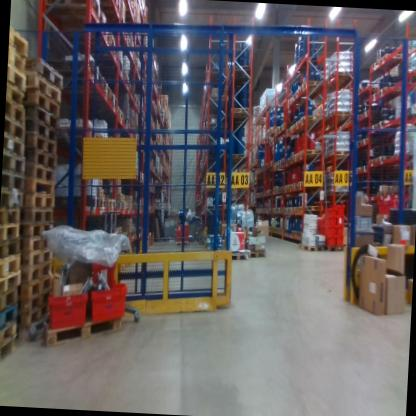pallet: (36, 302, 127, 357), (39, 0, 110, 31), (52, 72, 114, 97), (46, 57, 105, 82), (24, 56, 67, 89), (25, 82, 59, 116), (26, 70, 64, 99), (19, 241, 54, 271), (66, 90, 118, 108), (78, 28, 120, 50), (55, 191, 101, 211), (18, 272, 53, 298), (20, 159, 56, 183), (17, 284, 50, 310), (19, 233, 55, 256), (22, 148, 60, 169), (0, 271, 22, 307), (25, 116, 59, 139), (17, 303, 51, 326), (0, 234, 23, 267), (0, 334, 21, 370), (21, 217, 53, 240), (0, 287, 19, 325), (8, 28, 32, 58), (377, 46, 409, 68), (26, 106, 58, 128), (2, 148, 27, 175), (0, 257, 23, 286), (18, 262, 53, 281), (24, 134, 58, 153), (22, 176, 56, 195), (205, 61, 228, 88), (0, 305, 18, 339), (4, 118, 30, 141), (20, 207, 55, 224), (3, 133, 27, 157), (0, 221, 23, 246), (300, 74, 326, 96), (204, 88, 230, 110), (0, 321, 17, 354), (227, 101, 251, 124), (8, 65, 29, 91), (229, 60, 250, 86), (6, 82, 26, 109), (200, 197, 227, 217), (24, 193, 55, 210), (327, 66, 353, 85), (9, 48, 27, 75), (1, 187, 23, 209), (0, 208, 21, 230), (300, 144, 324, 163), (5, 102, 26, 123), (377, 82, 401, 100), (371, 59, 399, 74), (358, 136, 389, 149), (297, 242, 328, 255), (296, 200, 324, 214), (298, 112, 324, 127), (328, 105, 352, 121), (250, 245, 270, 264), (362, 105, 382, 124), (3, 171, 25, 188), (226, 149, 248, 166), (376, 153, 402, 167), (368, 91, 398, 103), (376, 116, 398, 131), (228, 250, 249, 263), (322, 242, 344, 254), (328, 148, 351, 159), (114, 103, 124, 124), (104, 196, 117, 211), (175, 238, 191, 249), (113, 194, 123, 211), (353, 161, 365, 175), (297, 179, 308, 190), (96, 194, 106, 206), (292, 149, 300, 163), (120, 198, 128, 212), (280, 119, 287, 132), (294, 87, 301, 99), (294, 118, 300, 131), (290, 88, 295, 103), (356, 110, 362, 122), (368, 157, 376, 166), (369, 123, 376, 132), (266, 187, 273, 196), (287, 155, 293, 165), (288, 181, 294, 191), (286, 123, 290, 137), (290, 227, 296, 236), (283, 182, 288, 192), (296, 230, 303, 237), (291, 205, 297, 213), (286, 227, 291, 236), (290, 123, 294, 134), (280, 155, 286, 162), (279, 158, 286, 164), (277, 225, 281, 235), (273, 124, 279, 130), (274, 224, 278, 233), (286, 99, 291, 106), (278, 185, 283, 192), (277, 125, 281, 133), (274, 128, 278, 136), (287, 204, 291, 212), (283, 205, 287, 212), (278, 206, 282, 213), (282, 226, 286, 233), (273, 182, 278, 187), (356, 142, 360, 148), (272, 187, 278, 191), (273, 165, 277, 171), (271, 124, 275, 130), (267, 125, 271, 131), (277, 158, 280, 165), (275, 206, 278, 213), (273, 162, 277, 167), (267, 131, 271, 136), (265, 129, 268, 135), (272, 225, 275, 231), (270, 225, 272, 233), (277, 163, 280, 168), (272, 207, 275, 212)
small_load_carrier: (89, 277, 132, 331), (46, 290, 91, 329), (85, 248, 118, 291), (370, 191, 406, 223), (321, 213, 338, 227), (322, 201, 337, 215), (323, 233, 336, 248), (322, 225, 335, 238), (177, 221, 191, 233), (336, 201, 347, 216), (336, 213, 347, 227), (335, 234, 344, 248), (180, 231, 191, 242), (315, 216, 325, 227), (336, 226, 345, 235), (172, 222, 182, 230), (173, 230, 182, 238)
